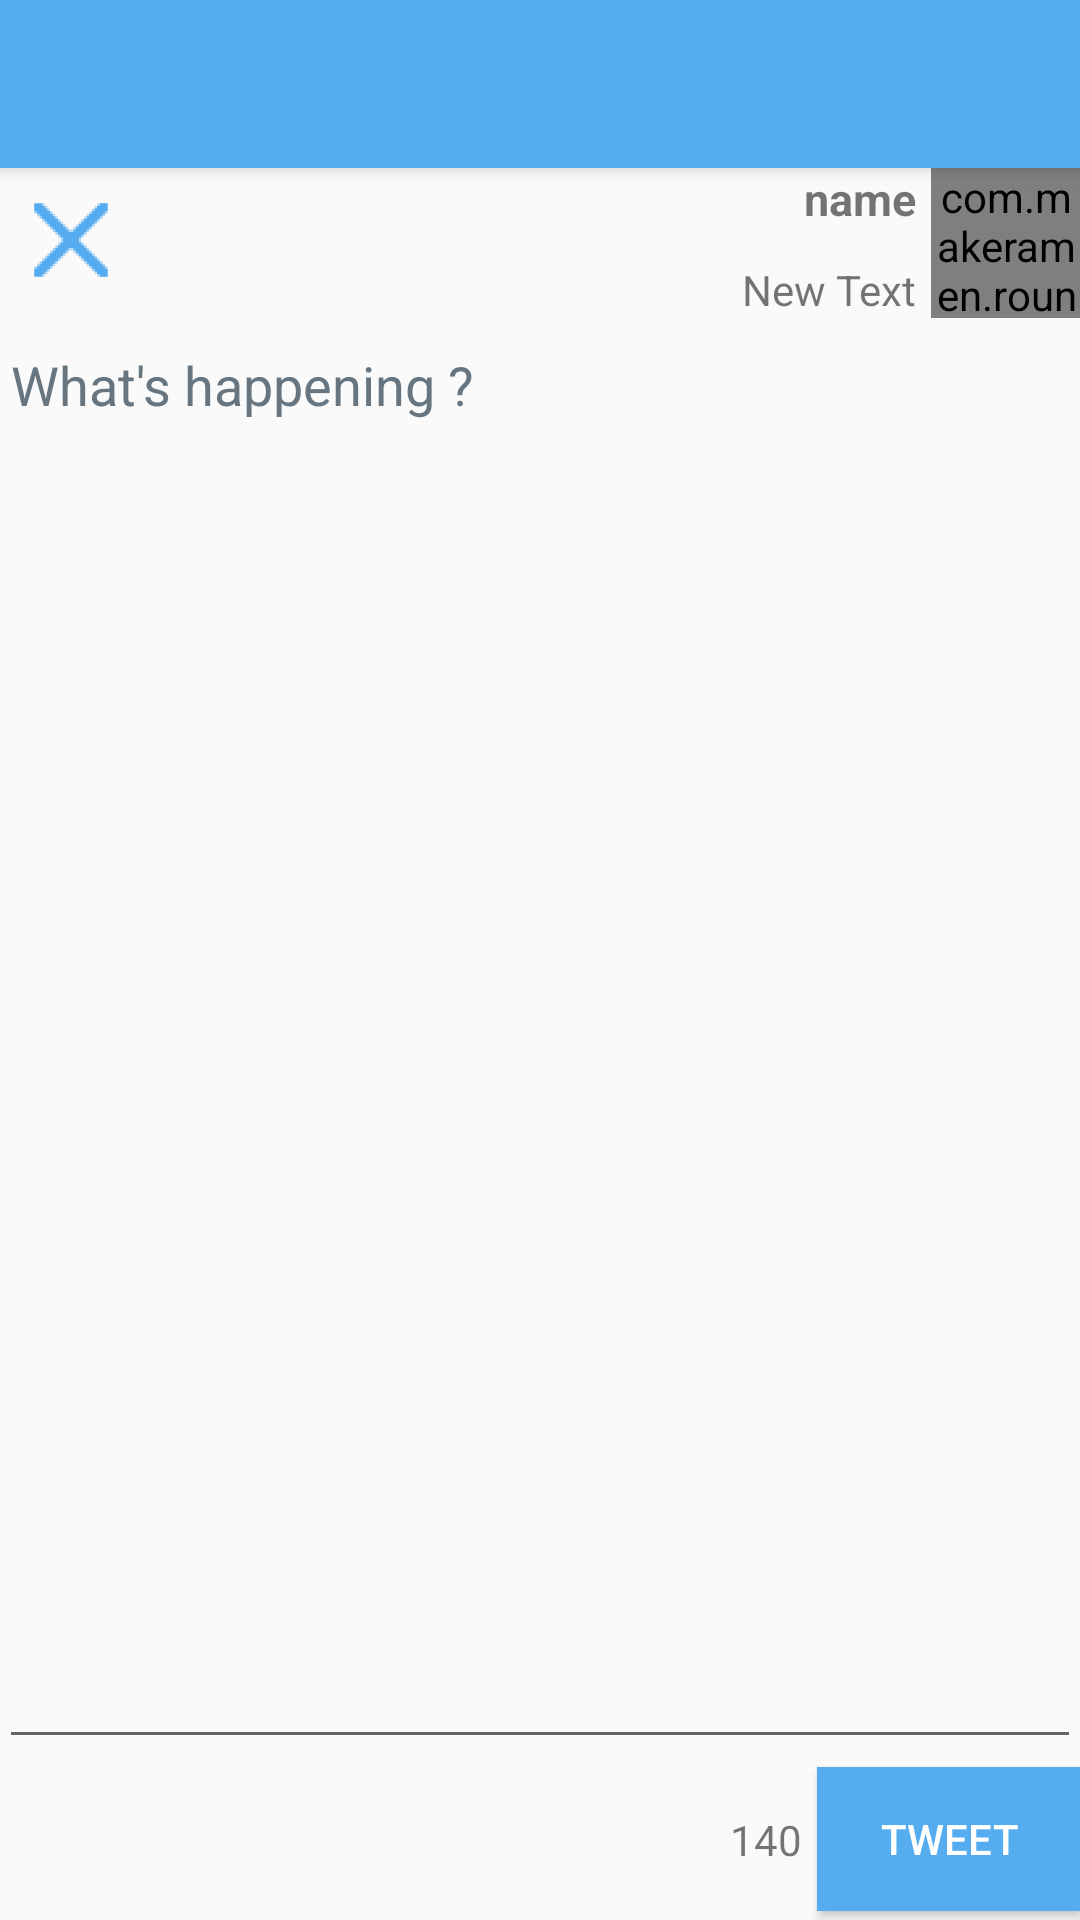

Icon click points for this 1080x1920 phone screenshot, format (x=x, y=y):
close: (x=71, y=240)
